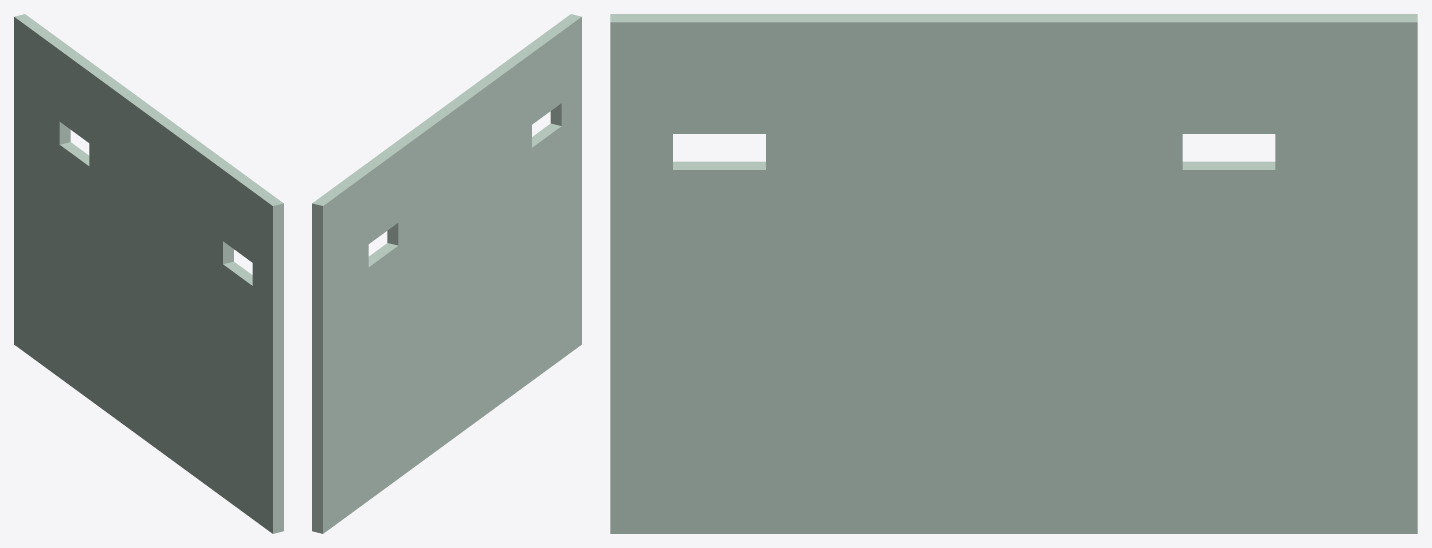
3 views of the same model, side by side, from view 1: azimuth 30°, elevation 25°; view 2: azimuth 150°, elevation 25°; view 3: azimuth 270°, elevation 25° (orthographic). The views are drawn at different scales.
Parts seen in each view (by area): view 1: 1HkW9JeWLCeADOOael3y4s_h21626; view 2: 1HkW9JeWLCeADOOael3y4s_h21626; view 3: 1HkW9JeWLCeADOOael3y4s_h21626.
Boxes of the visible parts, box(x1,y1,x2,y2) form: 1HkW9JeWLCeADOOael3y4s_h21626: box(14, 14, 283, 533); 1HkW9JeWLCeADOOael3y4s_h21626: box(312, 14, 581, 533); 1HkW9JeWLCeADOOael3y4s_h21626: box(610, 14, 1417, 533).
Bounding box in the file's own units: 0.15 × 4.26 × 6.1.
